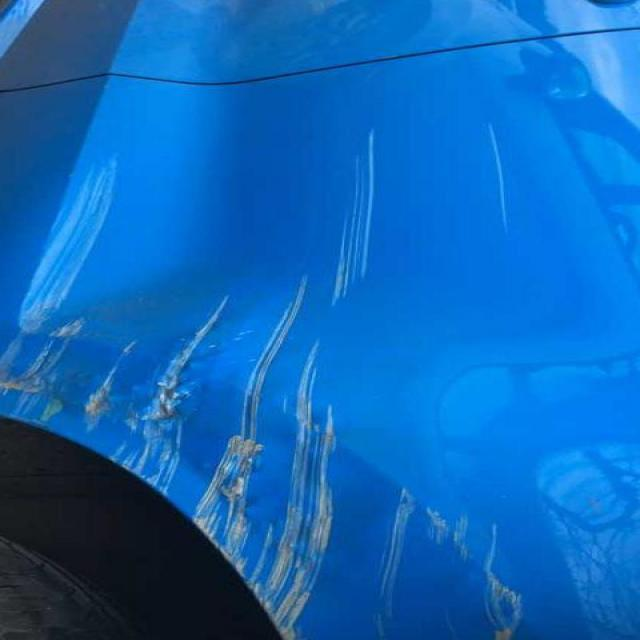scratch: (0, 331, 567, 640), (1, 149, 130, 353), (318, 119, 390, 315), (473, 116, 528, 251)
